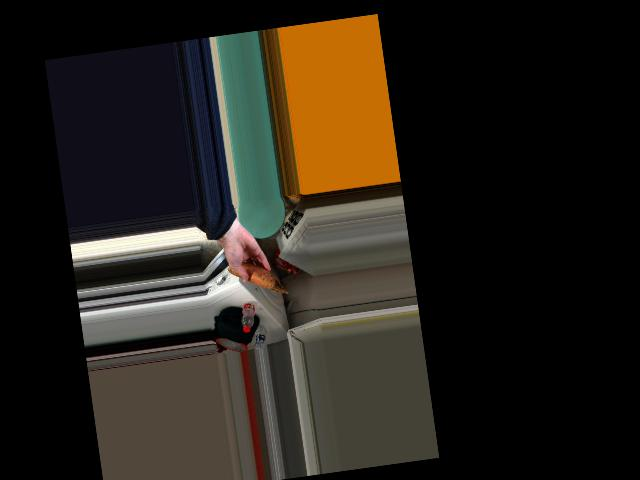sweet_potato: (233, 261, 272, 290)
